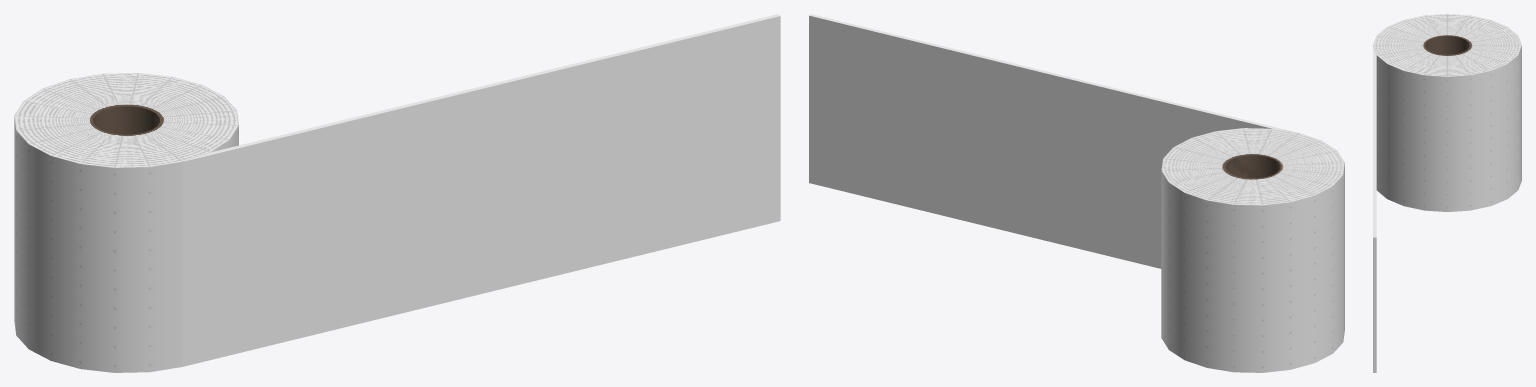
The model's file is Elements_Tissue-Long.fbx.
3 renders of one model, left to right at view 1: azimuth 30°, elevation 25°; view 2: azimuth 150°, elevation 25°; view 3: azimuth 270°, elevation 25°, orthographic. The views are drawn at different scales.
Parts seen in each view (by area): view 1: Tissue_Roll_Single1; view 2: Tissue_Roll_Single1; view 3: Tissue_Roll_Single1.
Part boxes in pixels (x1,y1,x2,y2): Tissue_Roll_Single1: (14, 14, 780, 372); Tissue_Roll_Single1: (809, 14, 1344, 372); Tissue_Roll_Single1: (1373, 14, 1521, 372).
Bounding box in the file's own units: 4.86 × 1.37 × 1.37.
Materials: 1 (1 with a texture image).
